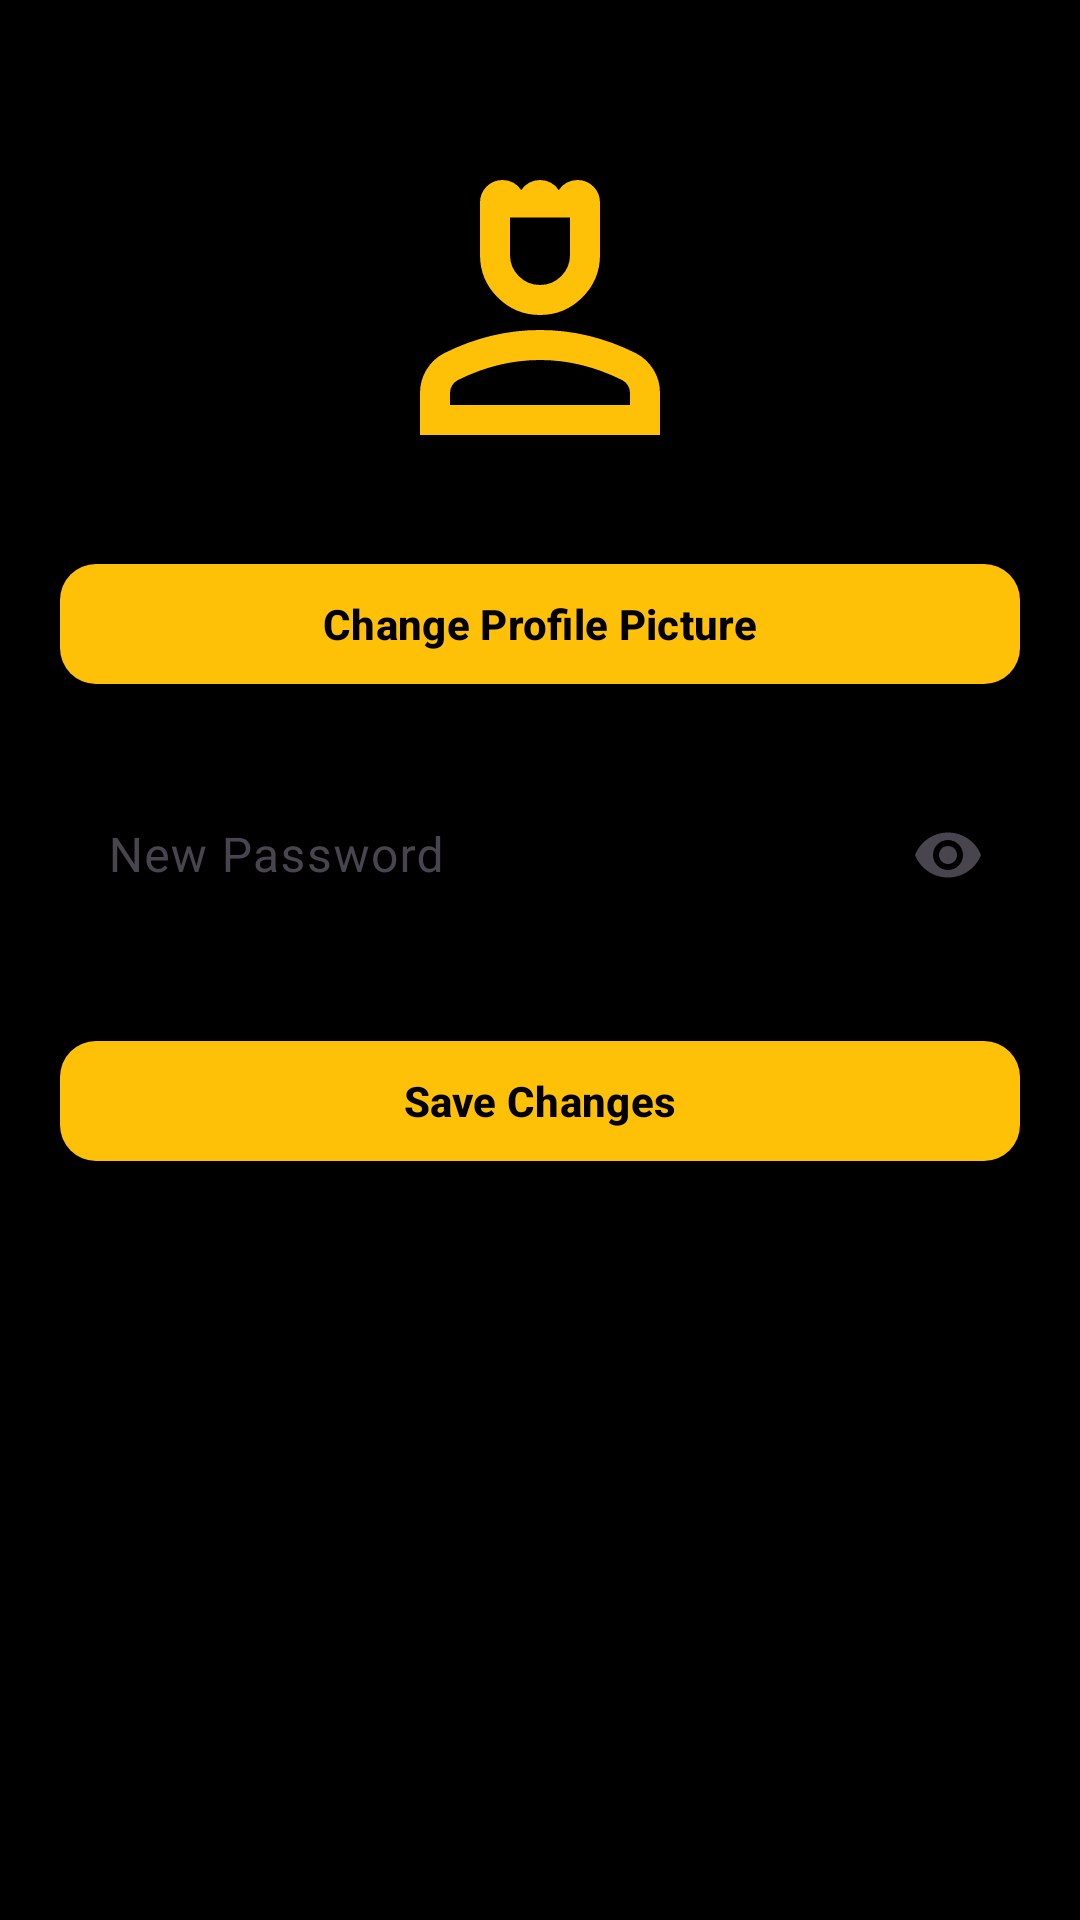

Icon click points for this 1080w x 1920h phone screenshot, format (x,y):
person: (540,307)
